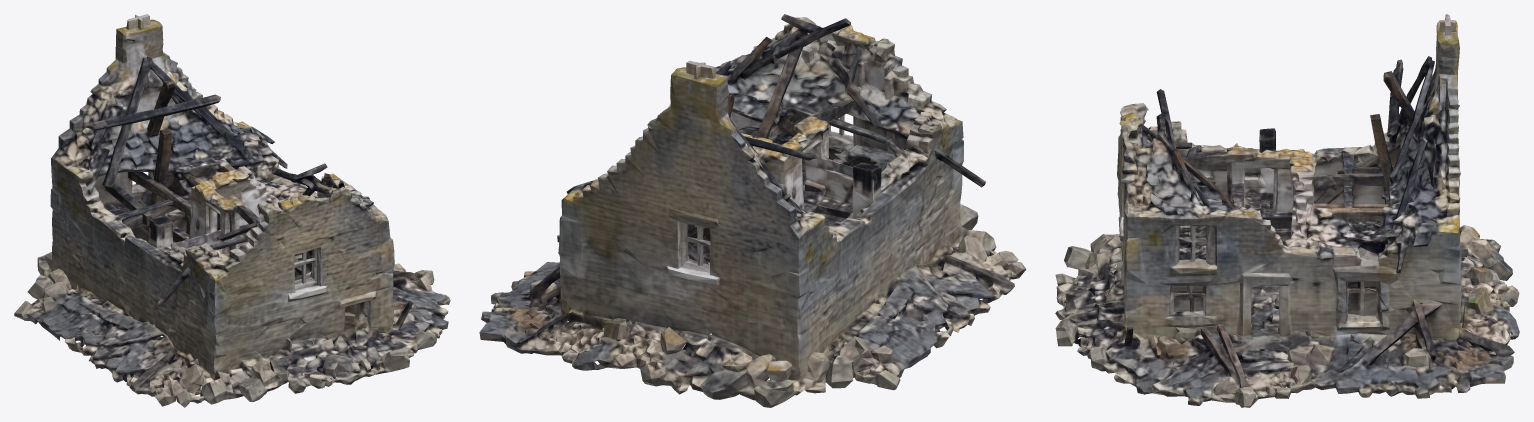
Rendered from farmhouse_ruin.obj.
3 views of the same model, side by side, from view 1: azimuth 30°, elevation 25°; view 2: azimuth 150°, elevation 25°; view 3: azimuth 270°, elevation 25° (orthographic). The views are drawn at different scales.
Parts seen in each view (by area): view 1: farmhouse_ruin; view 2: farmhouse_ruin; view 3: farmhouse_ruin.
Part boxes in pixels (x1,y1,x2,y2): farmhouse_ruin: [14, 14, 450, 407]; farmhouse_ruin: [479, 14, 1026, 407]; farmhouse_ruin: [1055, 14, 1519, 407].
Bounding box in the file's own units: 10.05 × 7.03 × 10.4.
1 material, 1 textured.
